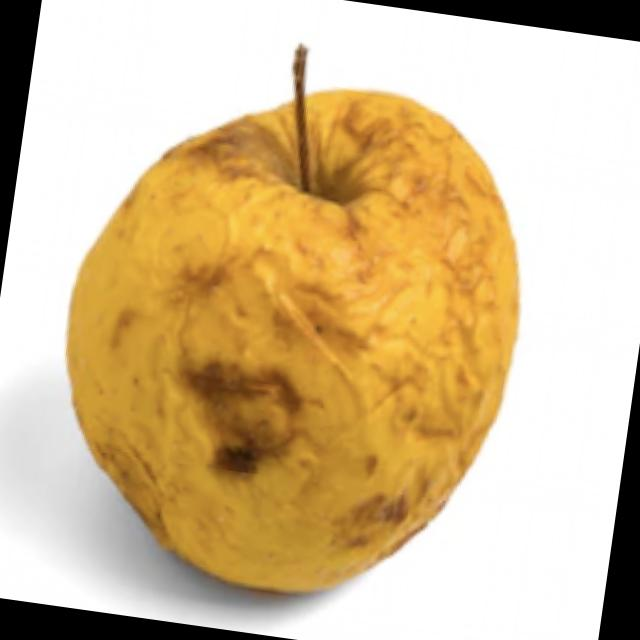rotten_apple: (32, 32, 550, 626)
